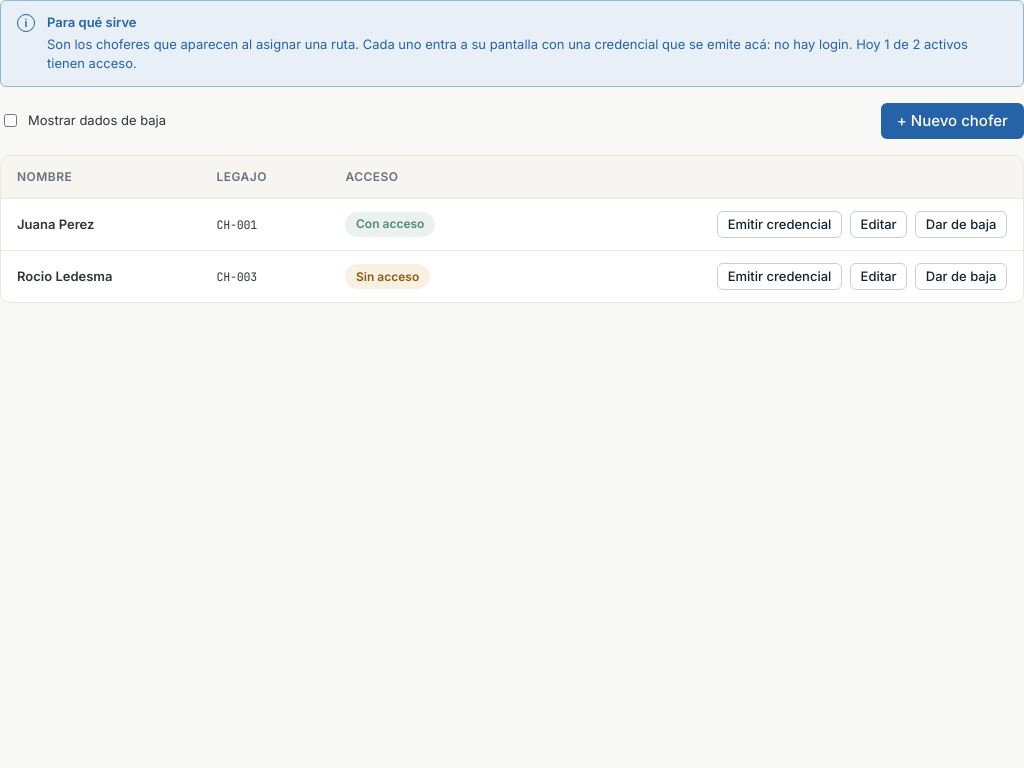
Test: CU-09 · choferes › el alta manda nombre y legajo recortados, y nunca un usuarioSub
This screenshot has width=1024, height=768.
Step 1. Click the button "+ Nuevo chofer" → (952, 121), box left=881, top=103, right=1023, bottom=139
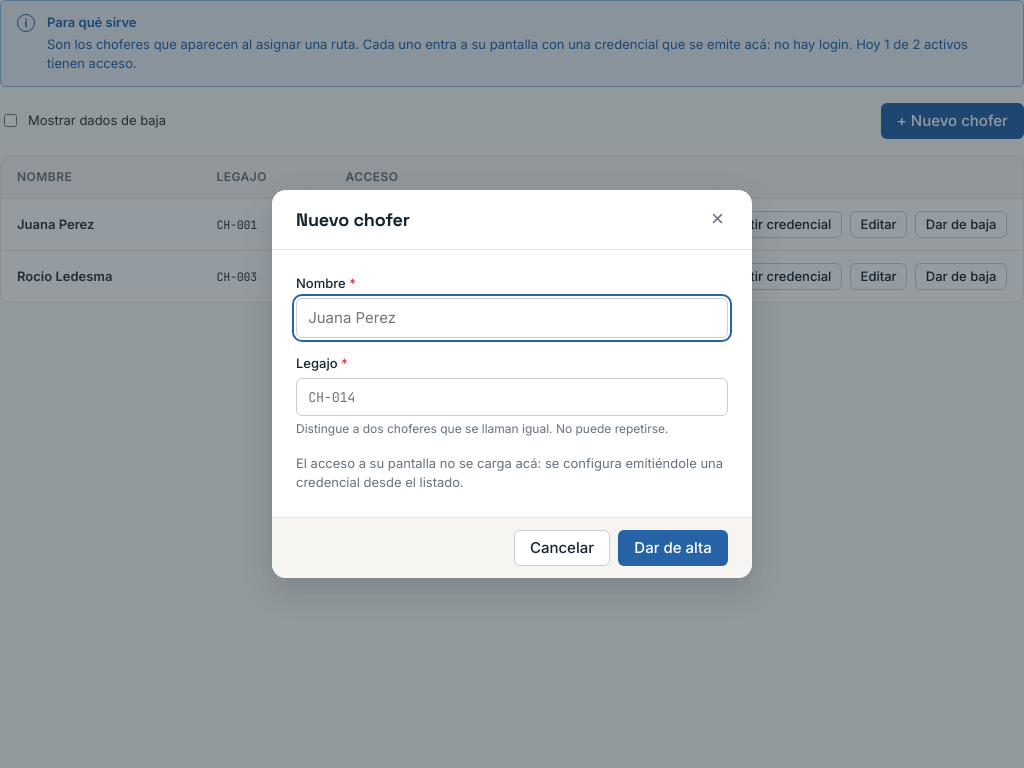
Step 2. Type "  Ana Ruiz " into the field labelled "Nombre *" → (512, 318), box left=296, top=298, right=728, bottom=338
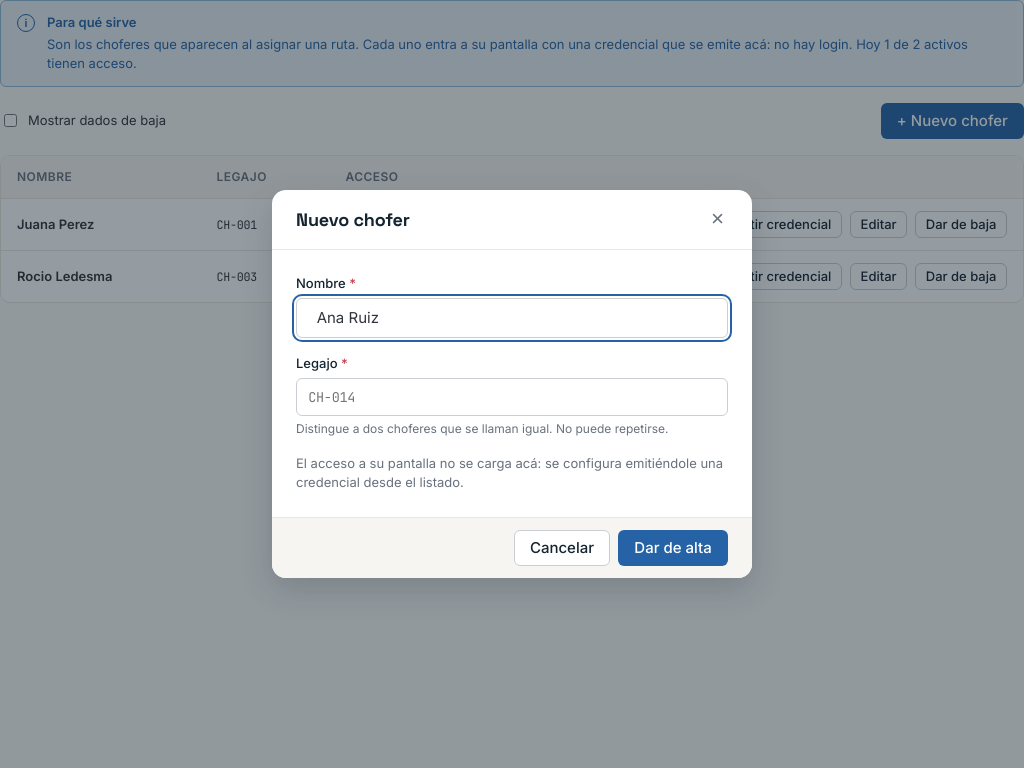
Step 3. Type " CH-010" into the field labelled "Legajo *" → (512, 397), box left=296, top=378, right=728, bottom=416
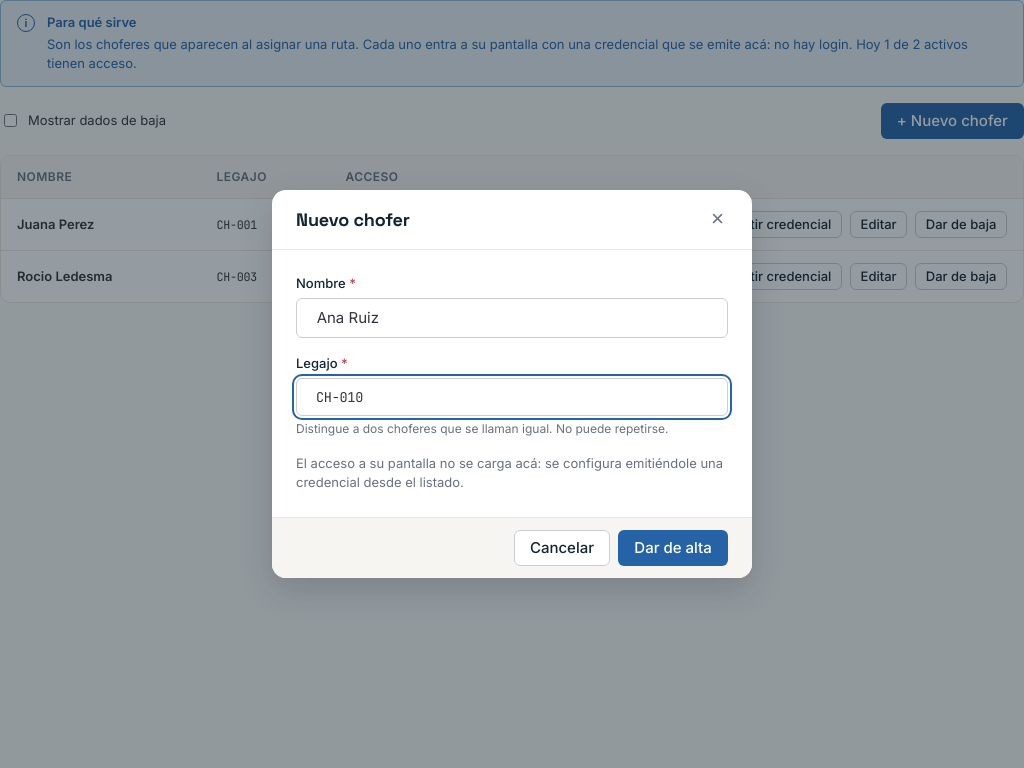
Step 4. Click the button "Dar de alta" → (673, 548), box left=618, top=530, right=728, bottom=566
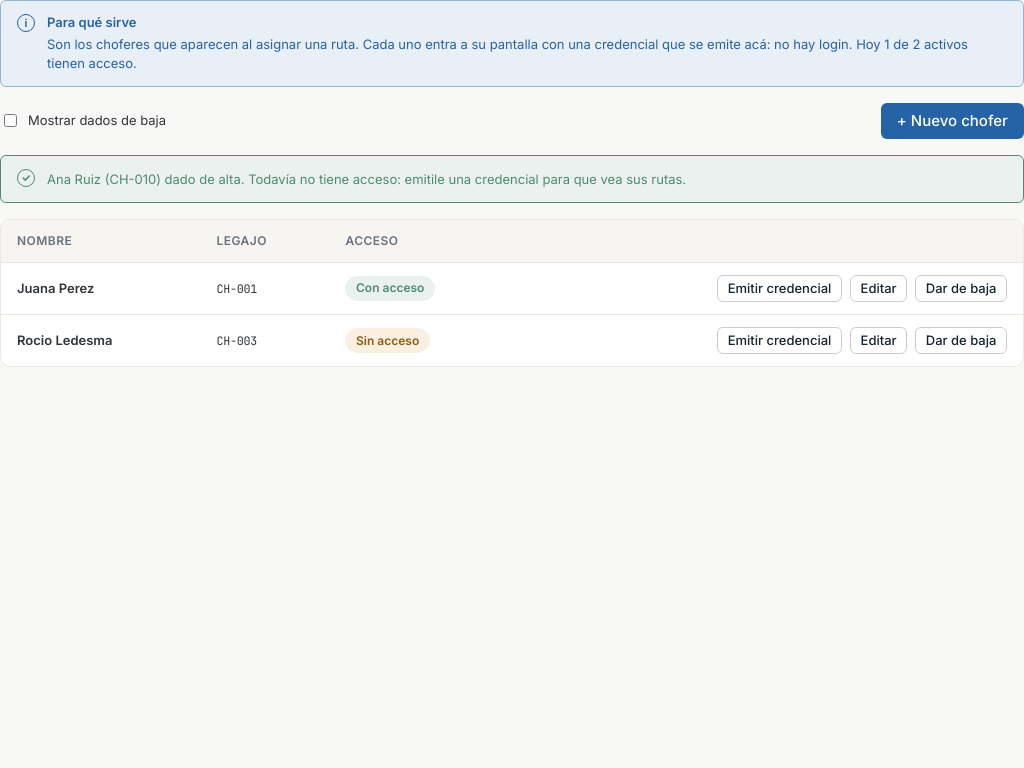
Result: the text "Ana Ruiz (CH-010) dado de alta. Todavía no tiene acceso" is shown at left=47, top=171, right=686, bottom=187
